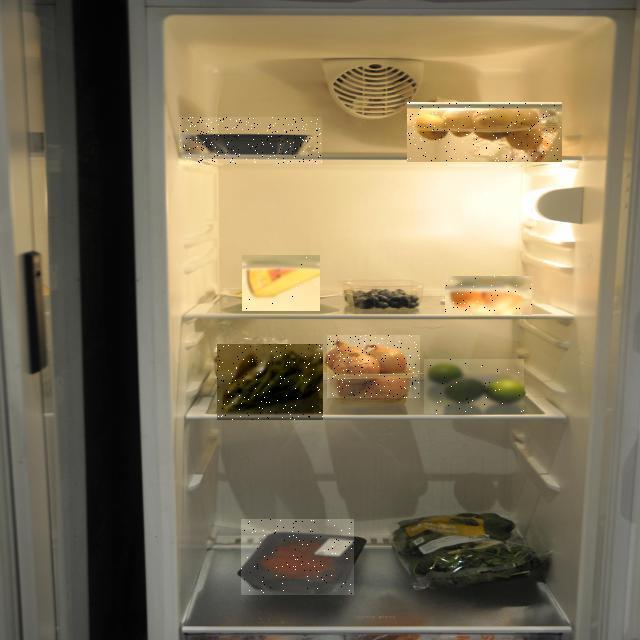Beans: (217, 344, 323, 420)
Cheese: (242, 255, 320, 311)
Eggs: (445, 276, 532, 315)
Lime: (424, 359, 524, 414)
Meat: (241, 519, 354, 595), (179, 117, 322, 164)
Onion: (327, 335, 420, 398)
Potatoes: (407, 102, 562, 162)
